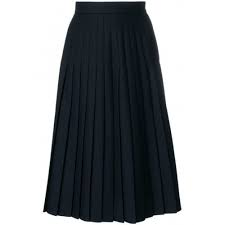S_skirt: (29, 1, 190, 225)
